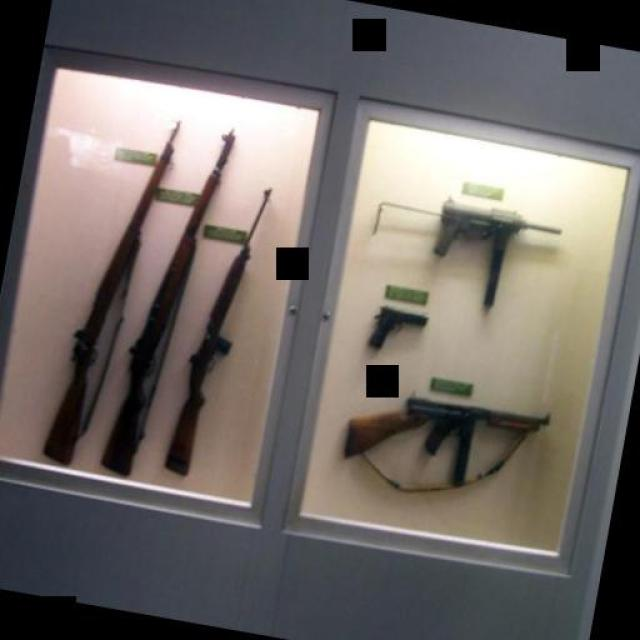gun: (358, 296, 432, 362)
